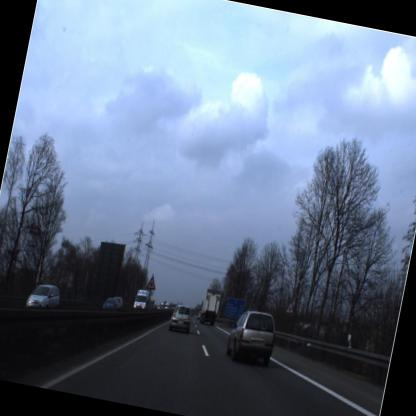danger: (280, 295, 298, 320), (142, 273, 159, 296)
